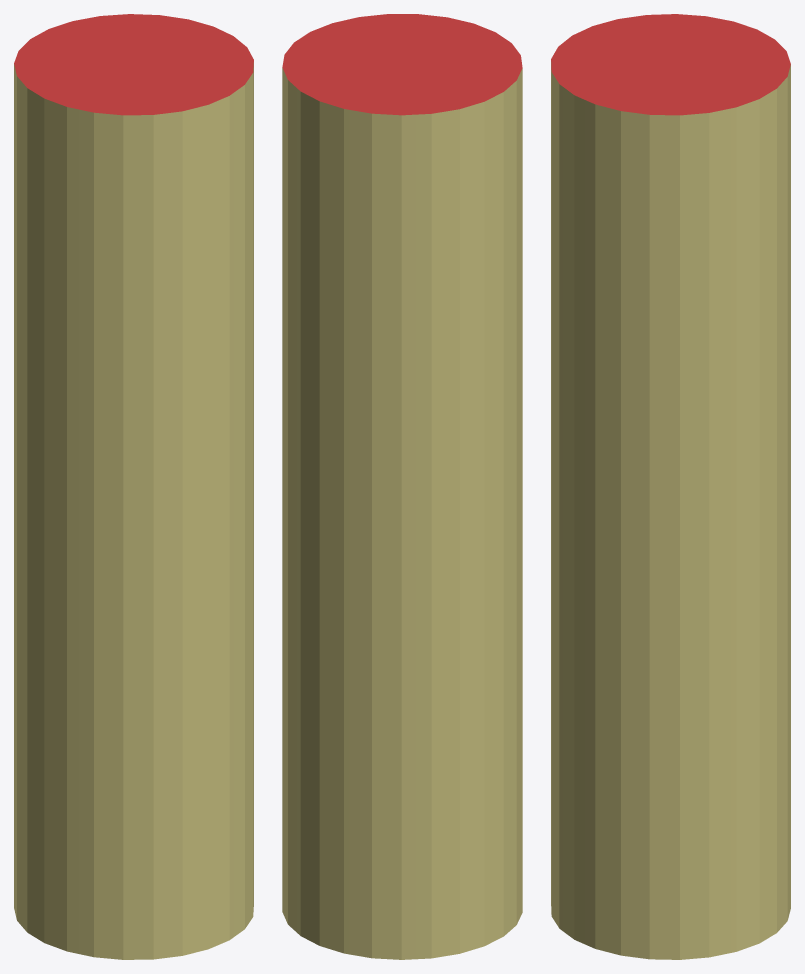
3 views of the same model, side by side, from view 1: azimuth 30°, elevation 25°; view 2: azimuth 150°, elevation 25°; view 3: azimuth 270°, elevation 25° (orthographic).
Bounding box in the file's own units: 3.22 × 3.21 × 12.48.
